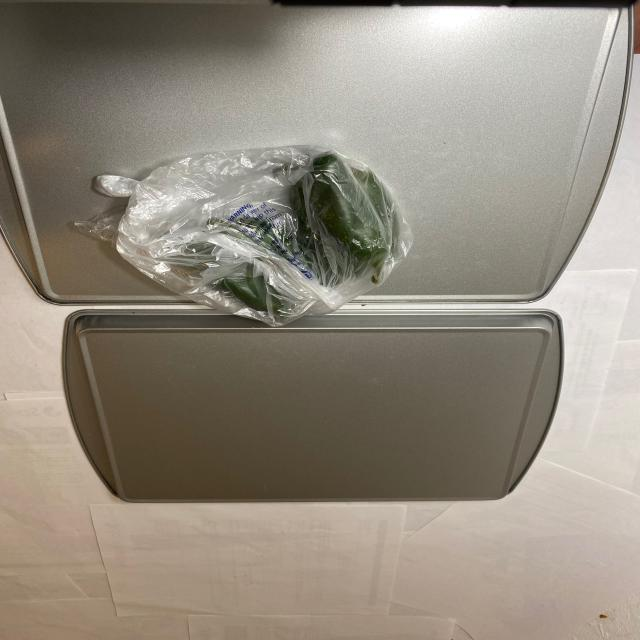chilli: (190, 150, 406, 320)
